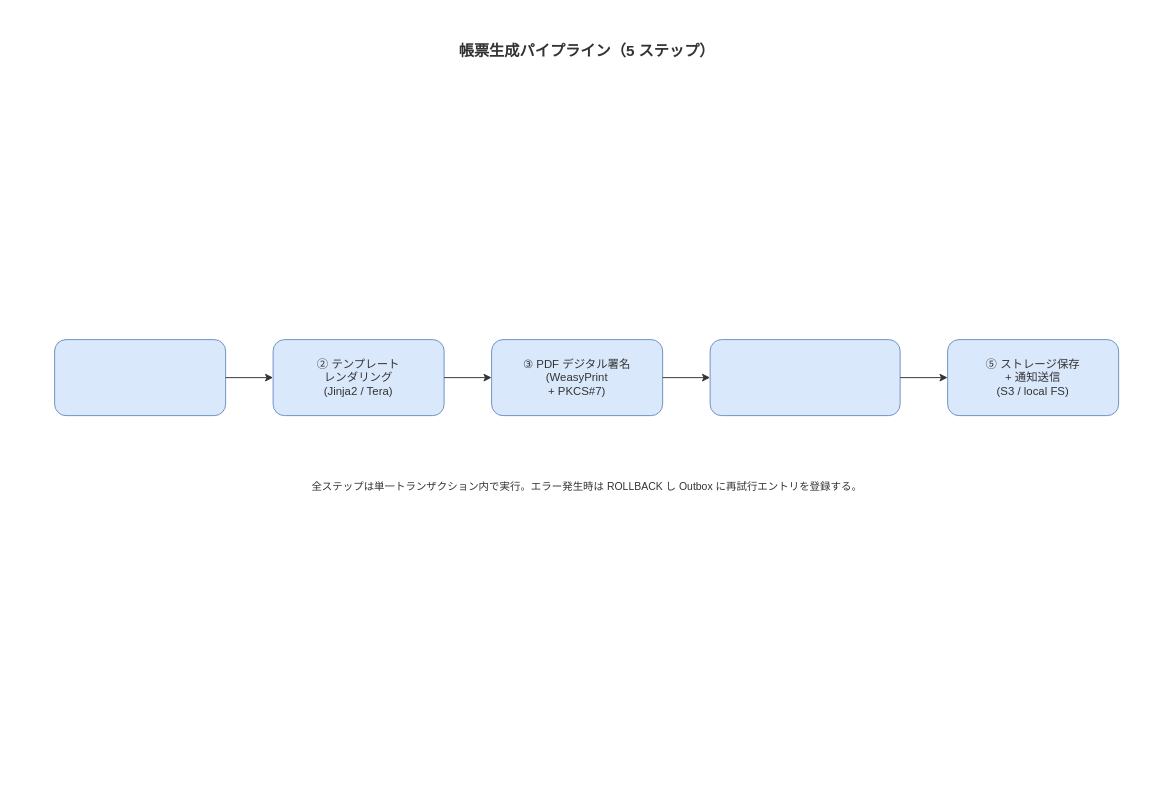
Some shapes in this 1172 by 792 pixel diagram are drawn without their labels. The shapes that lost their labels are listed below. From the top down, each one's box as (x1, y1, x2, y2) in pixels, then its label:
(54, 339, 226, 416): ① PostgreSQL クエリ psql + SQLx
(709, 339, 900, 416): ④ SHA-256 ハッシュ + hash_chain_blocks INSERT
